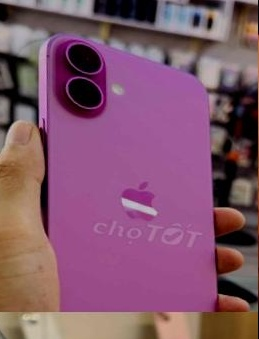scratch: (42, 44, 58, 65)
